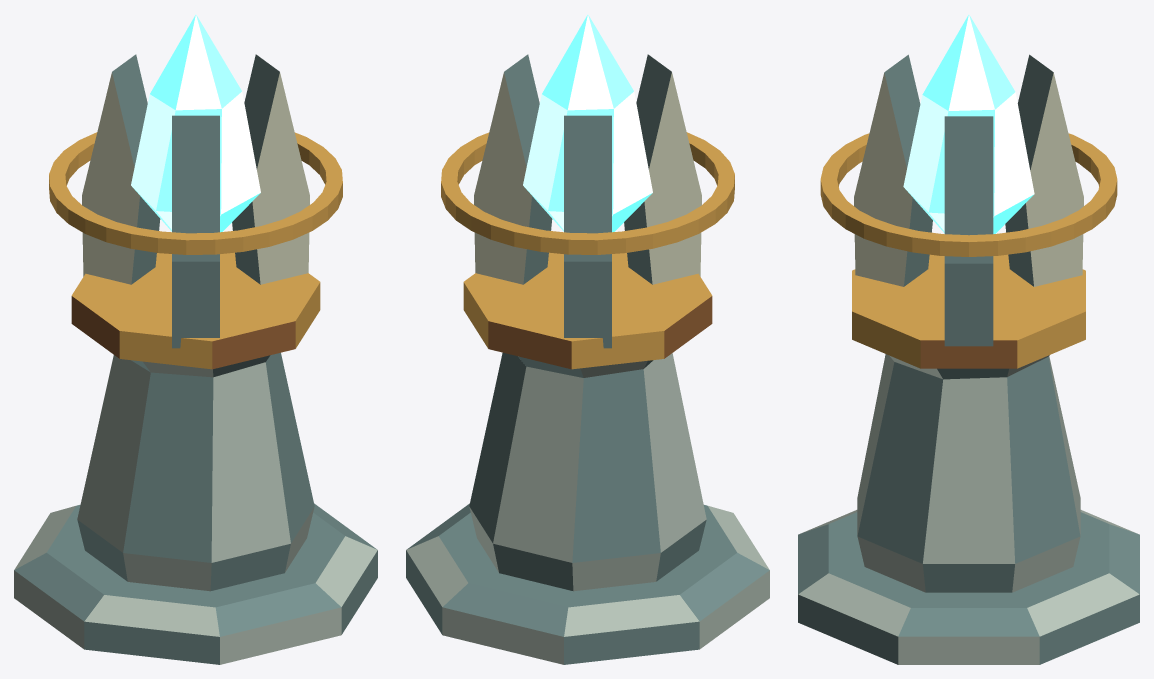
The model's file is tower_frost.glb.
3 renders of one model, left to right at view 1: azimuth 30°, elevation 25°; view 2: azimuth 150°, elevation 25°; view 3: azimuth 270°, elevation 25°, orthographic.
Visible parts, largest first — view 1: frost_shaft, frost_foundation, frost_gold_collar, Frost_heart, Frost_petal.001, Frost_petal, Frost_halo, Frost_petal.002; view 2: frost_shaft, frost_foundation, frost_gold_collar, Frost_heart, Frost_petal, Frost_petal.002, Frost_halo, Frost_petal.001; view 3: frost_shaft, frost_foundation, frost_gold_collar, Frost_heart, Frost_petal, Frost_petal.002, Frost_halo, Frost_petal.001.
Part boxes in pixels (x1,y1,x2,y2): frost_shaft: (77, 352, 314, 591); frost_foundation: (14, 503, 377, 664); frost_gold_collar: (71, 252, 320, 369); Frost_heart: (131, 14, 260, 232); Frost_petal.001: (82, 54, 160, 284); Frost_petal: (232, 54, 309, 284); Frost_halo: (49, 132, 342, 254); Frost_petal.002: (172, 115, 219, 348); frost_shaft: (469, 352, 706, 591); frost_foundation: (406, 503, 769, 664); frost_gold_collar: (463, 252, 712, 369); Frost_heart: (523, 14, 652, 232); Frost_petal: (474, 54, 552, 284); Frost_petal.002: (624, 54, 701, 284); Frost_halo: (441, 132, 734, 254); Frost_petal.001: (564, 115, 611, 348); frost_shaft: (857, 354, 1080, 592); frost_foundation: (798, 510, 1139, 664); frost_gold_collar: (852, 254, 1085, 368); Frost_heart: (903, 14, 1034, 233); Frost_petal: (944, 116, 993, 346); Frost_petal.002: (854, 54, 932, 286); Frost_halo: (820, 133, 1117, 256); Frost_petal.001: (1005, 54, 1083, 286).
Size of the model in its own units: 1.76 by 3.28 by 1.76.
